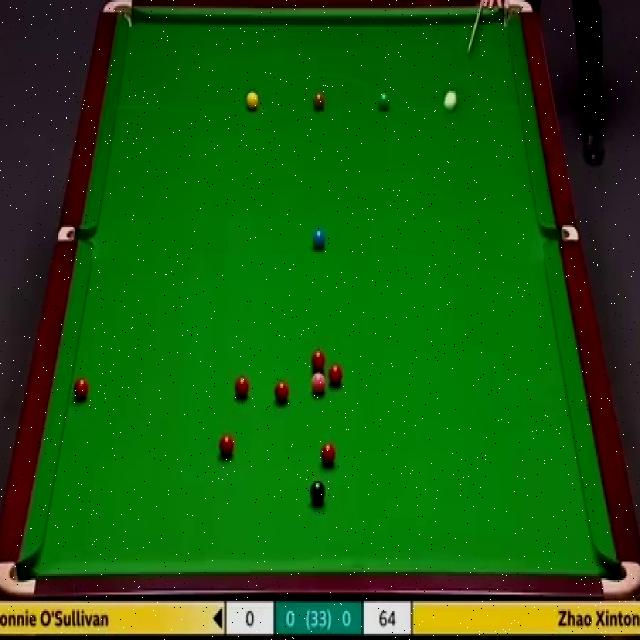black-ball: (310, 480, 324, 503)
blue-ball: (312, 231, 326, 250)
brown-ball: (312, 92, 327, 110)
green-ball: (376, 89, 392, 112)
pink-ball: (310, 373, 325, 394)
red-ball: (218, 434, 236, 459), (310, 348, 326, 374), (232, 374, 248, 398), (273, 382, 288, 404), (322, 445, 336, 467), (328, 365, 342, 386), (74, 377, 87, 399)
white-ball: (445, 89, 458, 111)
yellow-ball: (245, 91, 259, 113)
